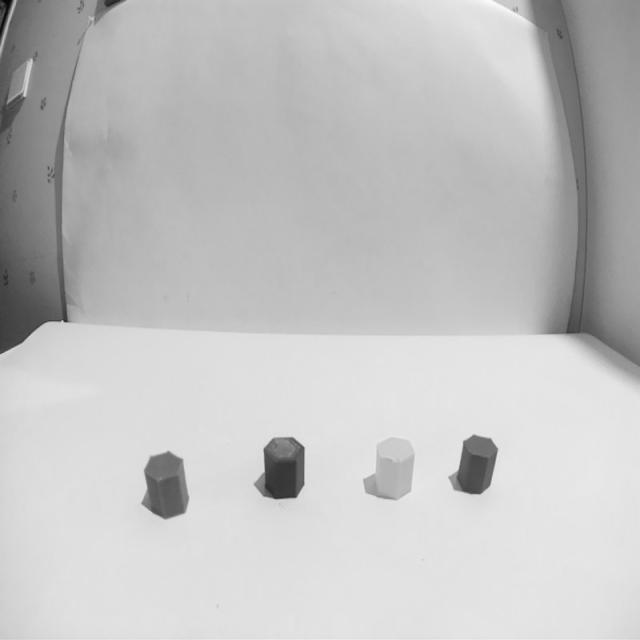hexagon: (142, 449, 193, 522), (261, 432, 306, 502), (373, 432, 415, 503), (454, 432, 499, 498)
